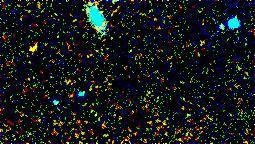star: (20, 35, 50, 65)
